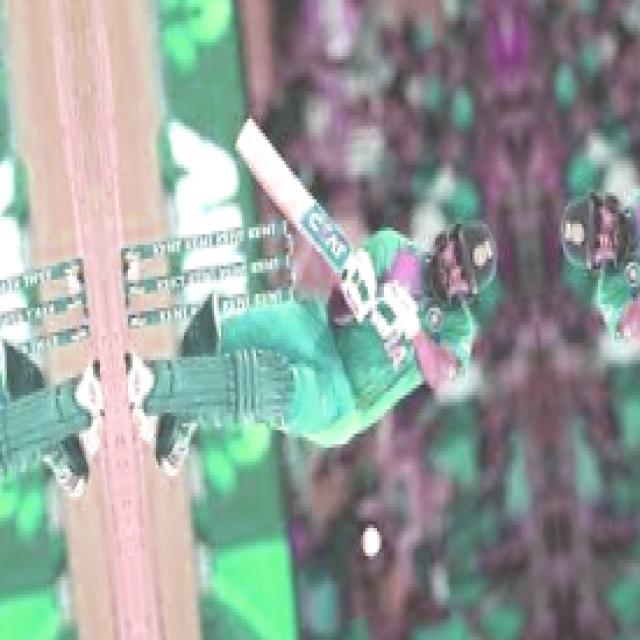toe: (232, 116, 254, 153)
